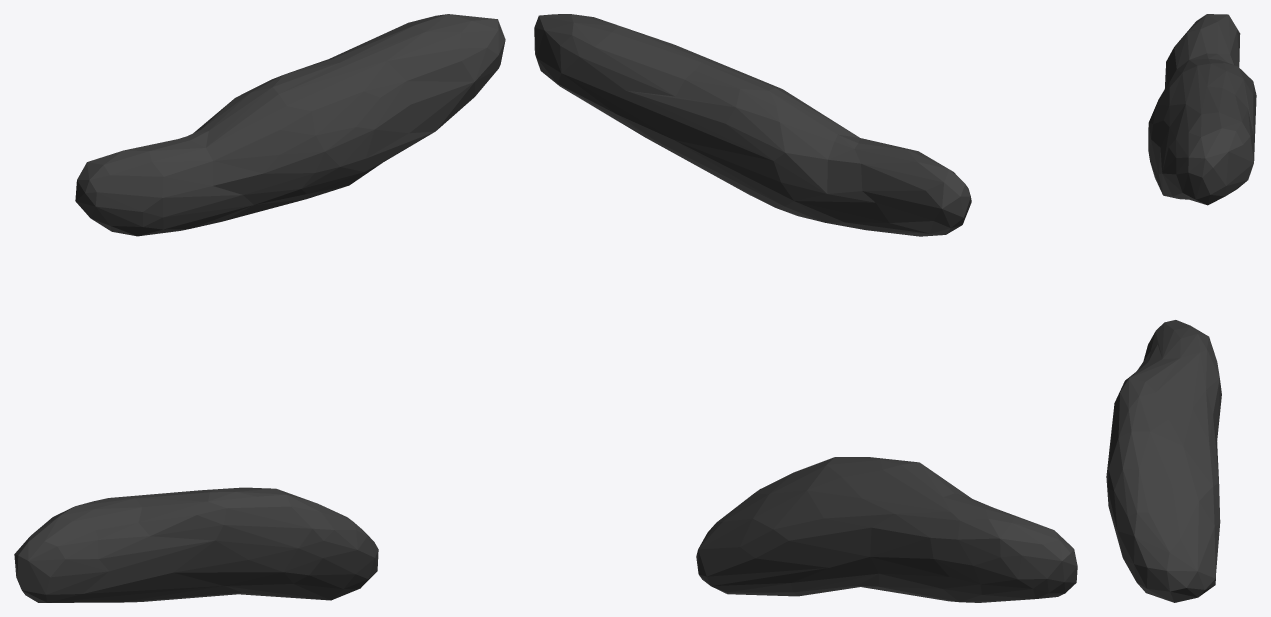
File: nodes_lymph_medial_iliac_LP.glb
3 views of the same model, side by side, from view 1: azimuth 30°, elevation 25°; view 2: azimuth 150°, elevation 25°; view 3: azimuth 270°, elevation 25° (orthographic). The views are drawn at different scales.
Parts seen in each view (by area): view 1: nodes_lymph_medial_iliac_LP; view 2: nodes_lymph_medial_iliac_LP; view 3: nodes_lymph_medial_iliac_LP.
Boxes of the visible parts, left/top/right/bottom form: nodes_lymph_medial_iliac_LP: left=14, top=14, right=505, bottom=602; nodes_lymph_medial_iliac_LP: left=534, top=14, right=1077, bottom=602; nodes_lymph_medial_iliac_LP: left=1106, top=14, right=1256, bottom=602.
Size of the model in its own units: 0.003 by 0.003 by 0.000763.
1 material, 1 textured.
